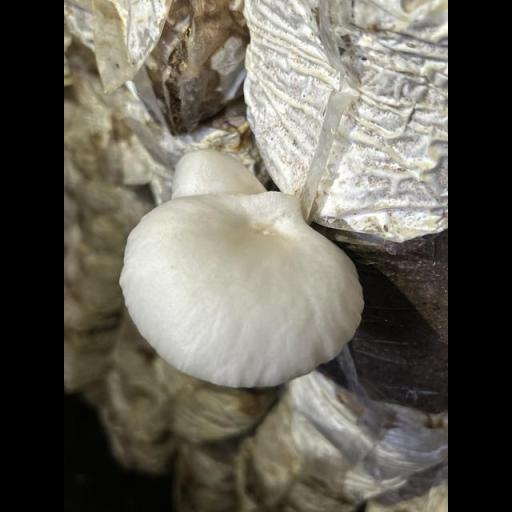White Oyster Mushroom: (119, 154, 366, 392)
